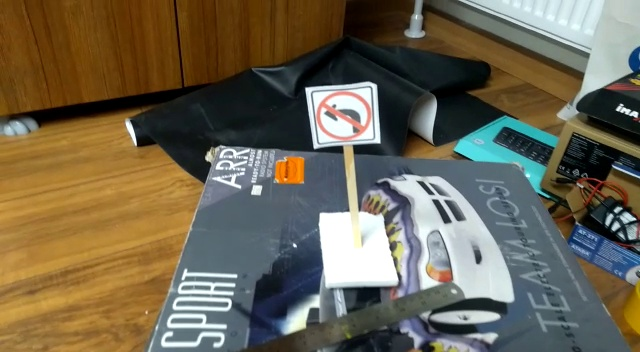sola_donulmez: (311, 92, 375, 140)
